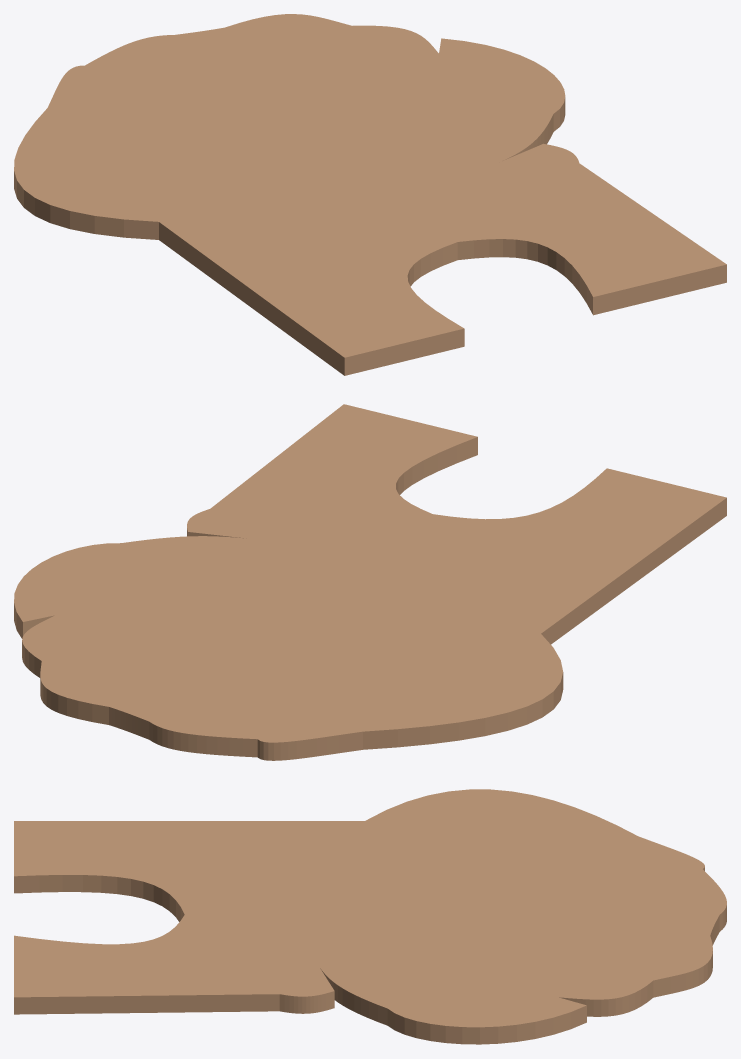
3 renders of one model, top to bottom at view 1: azimuth 30°, elevation 25°; view 2: azimuth 150°, elevation 25°; view 3: azimuth 270°, elevation 25°, orthographic. The views are drawn at different scales.
Visible parts, largest first — view 1: Mesh_Mesh_head_geo.001_lambert2SG.001; view 2: Mesh_Mesh_head_geo.001_lambert2SG.001; view 3: Mesh_Mesh_head_geo.001_lambert2SG.001.
Boxes of the visible parts, x1,y1,x2,y2 form: Mesh_Mesh_head_geo.001_lambert2SG.001: (14,14,726,375); Mesh_Mesh_head_geo.001_lambert2SG.001: (14,404,726,760); Mesh_Mesh_head_geo.001_lambert2SG.001: (14,789,726,1044).
Bounding box in the file's own units: 0.1484 × 0.005 × 0.1879.
